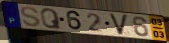2: (86, 13, 104, 33)
6: (131, 16, 150, 38), (66, 10, 83, 32)
Q: (39, 8, 63, 30)
S: (20, 6, 42, 28)
V: (108, 12, 130, 36)
